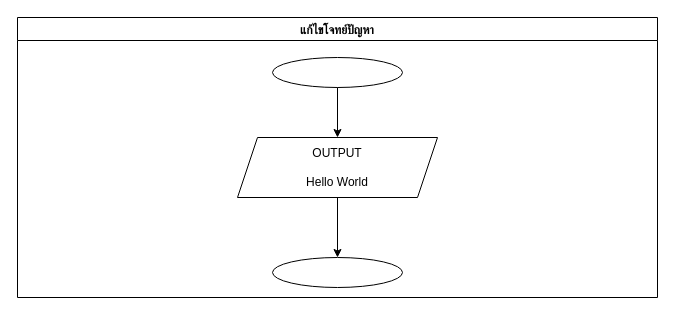
The diagram is 675 pixels wide and 315 high, and some of its shapes have lost their labels. Here are the shapes that lost their labels. From the top down, the centre of each, then its label:
pixel 337 72: START
pixel 337 272: END
